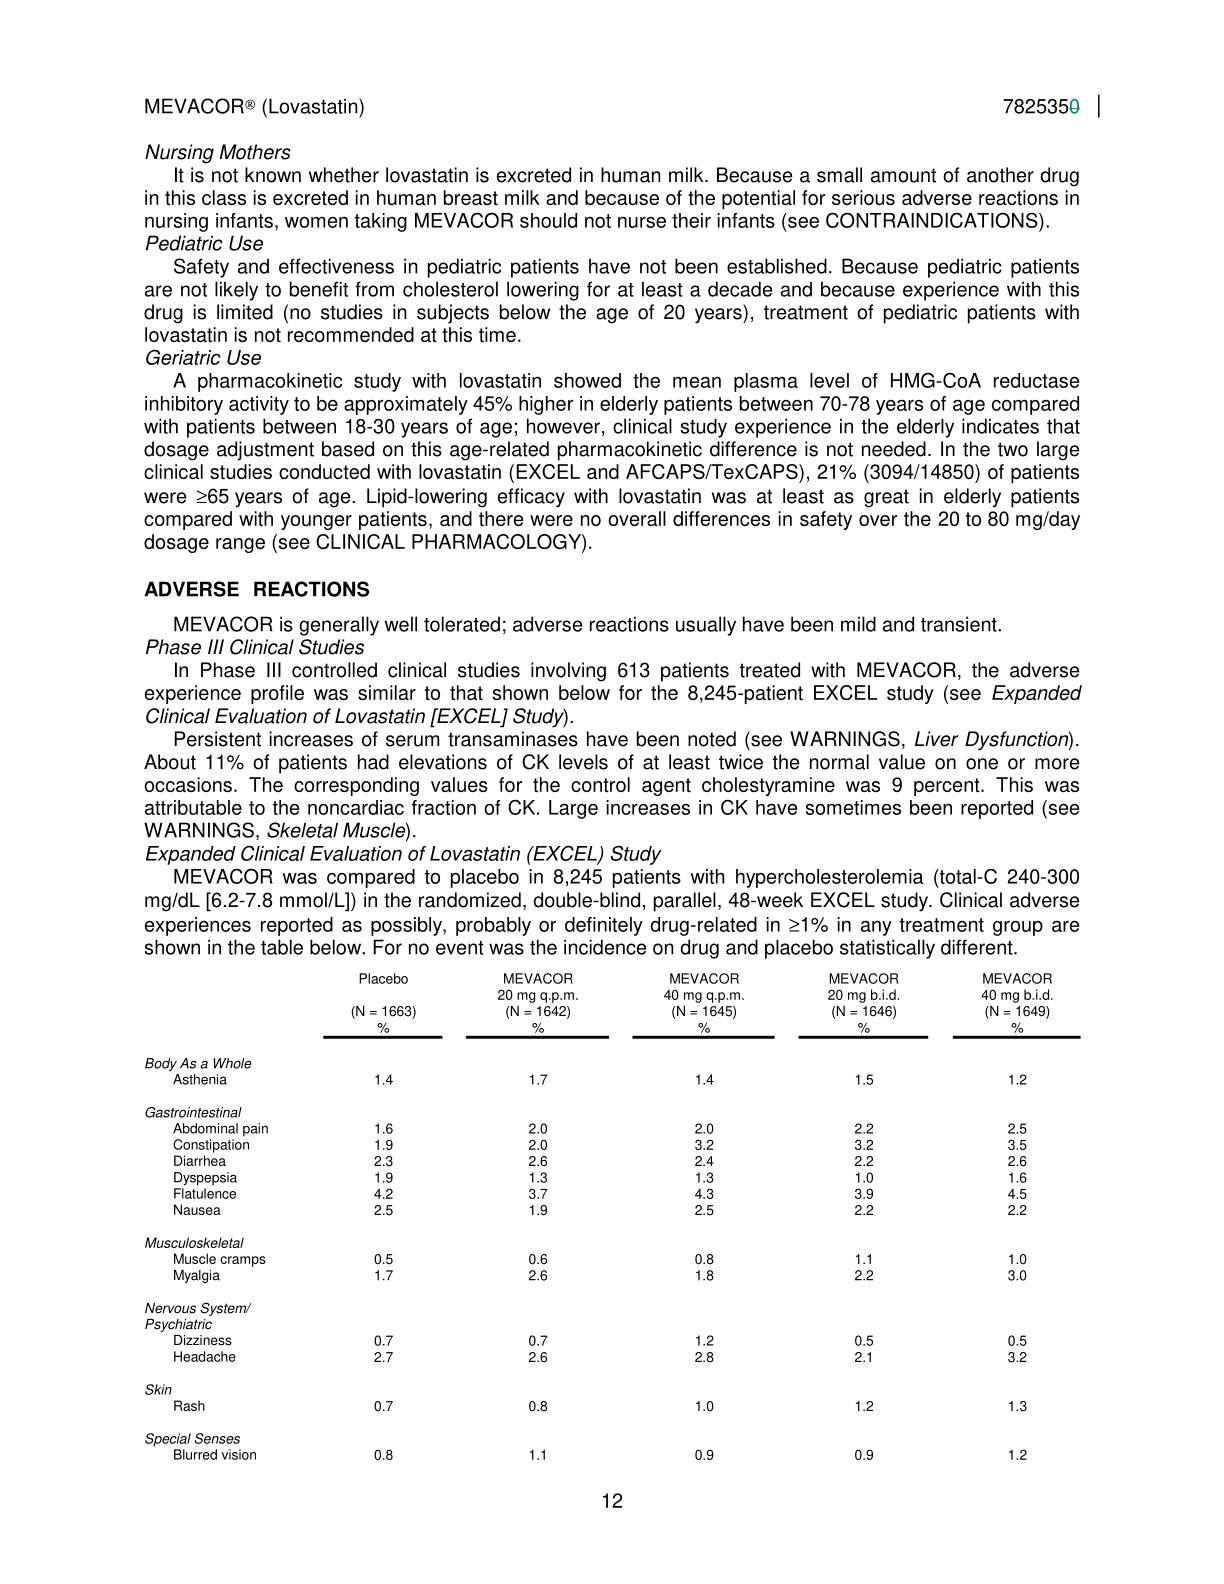nolines: (138, 966, 1083, 1470)
